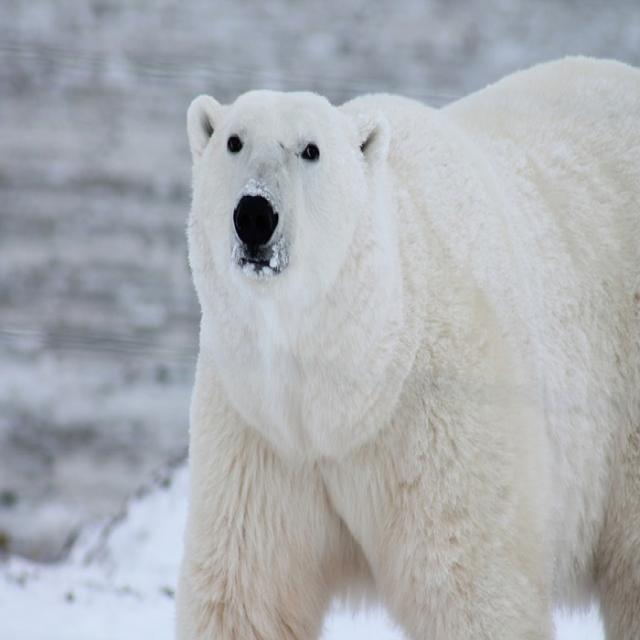Carnivorous: (173, 56, 640, 640)
